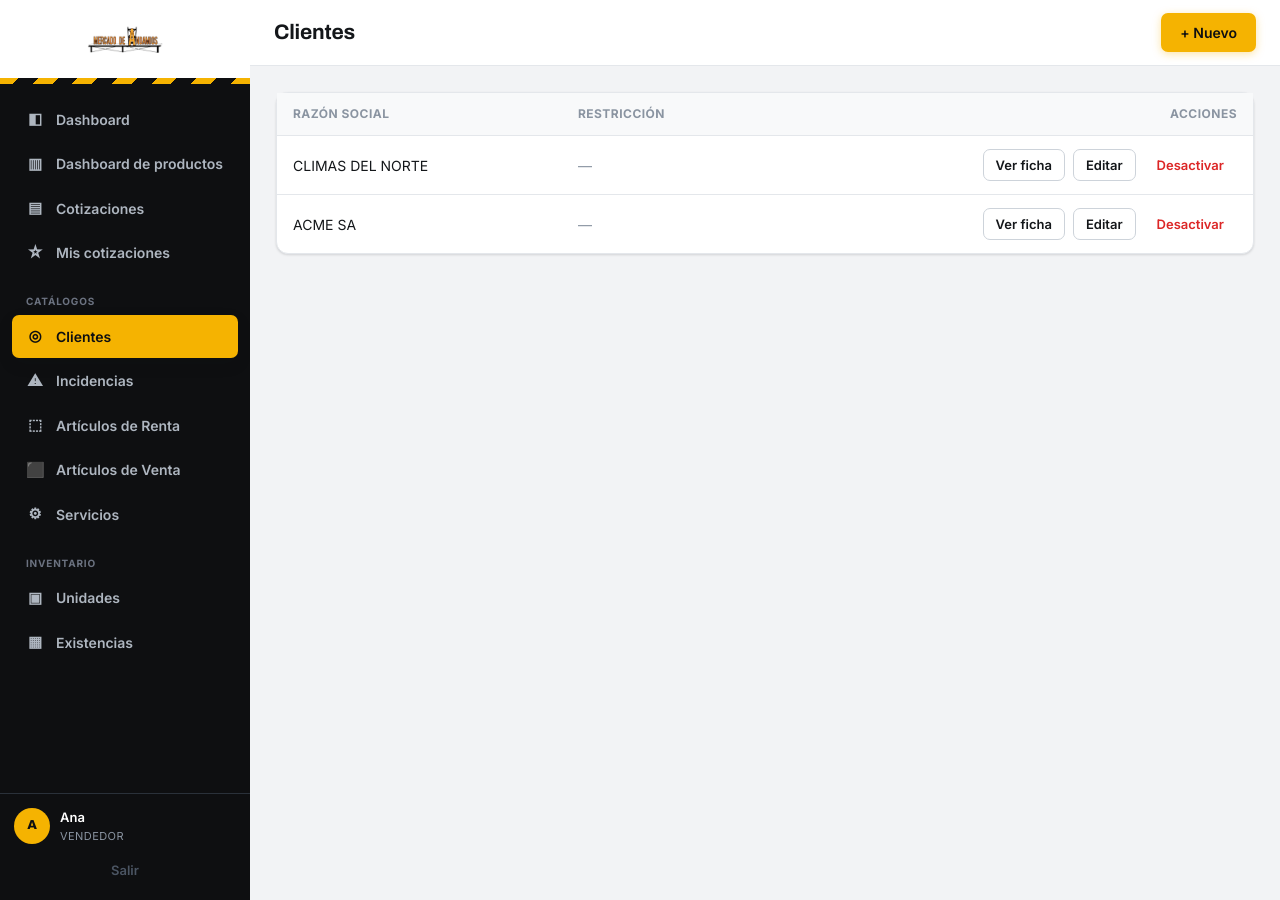
Test: AdminCRUD — campos solo de ADMIN › a un VENDEDOR no se le ofrece: lo que no puede guardar, no se muestra editable
This screenshot has width=1280, height=900.
What coordinates should you click on to do the following:
click the button "+ Nuevo"
I would click on:
 (1209, 32)
Its box is x1=1161 y1=13 x2=1256 y2=52.
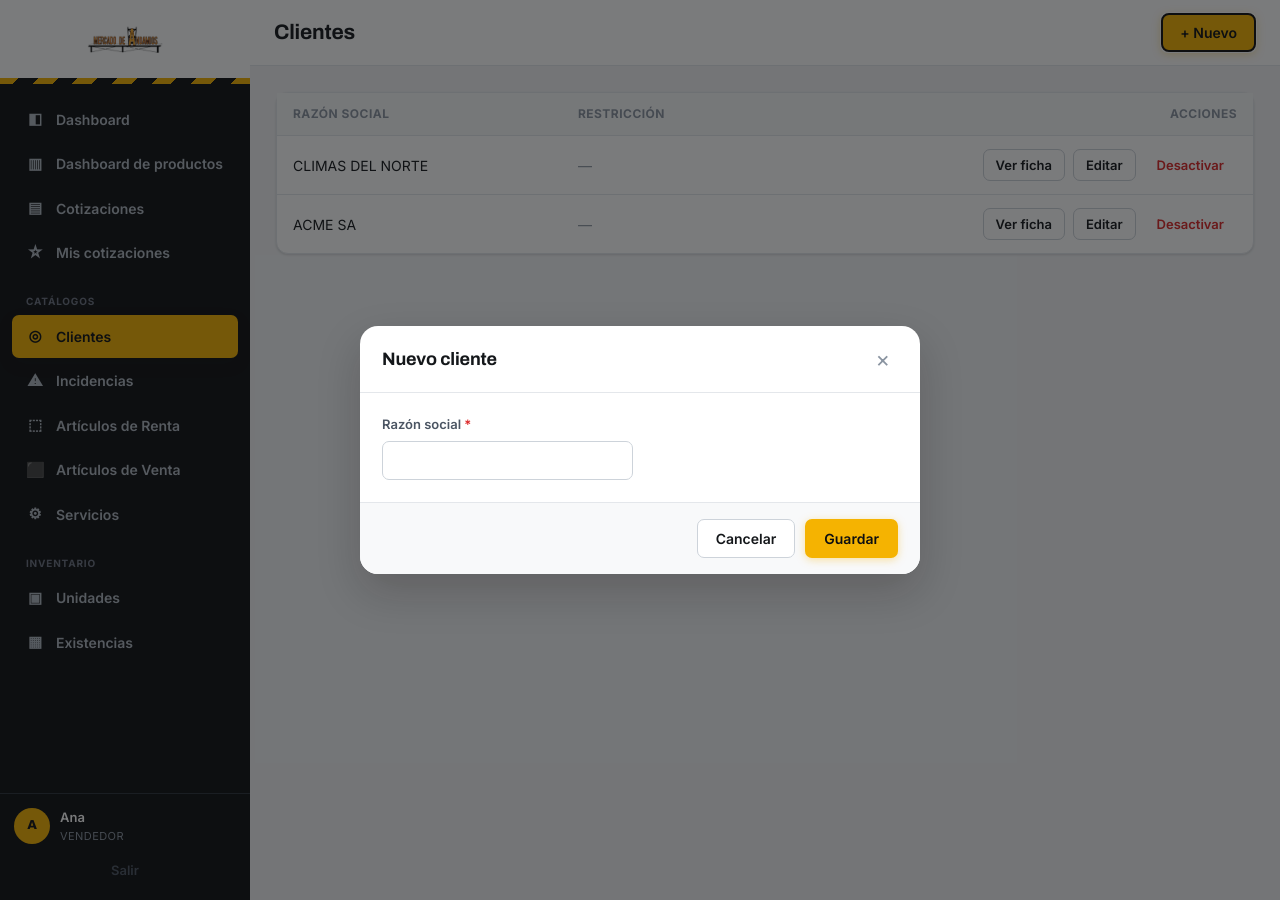
expect the field labelled "Razón social *" is shown: met, box x1=382 y1=441 x2=633 y2=480
